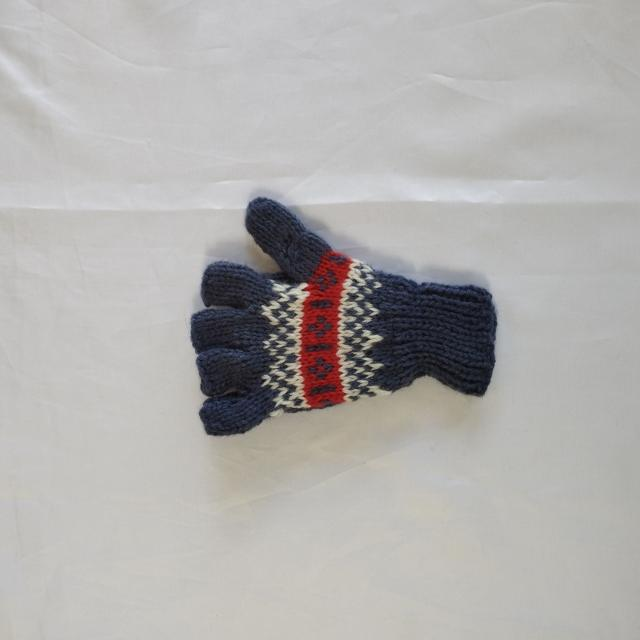Guante: (189, 195, 498, 437)
